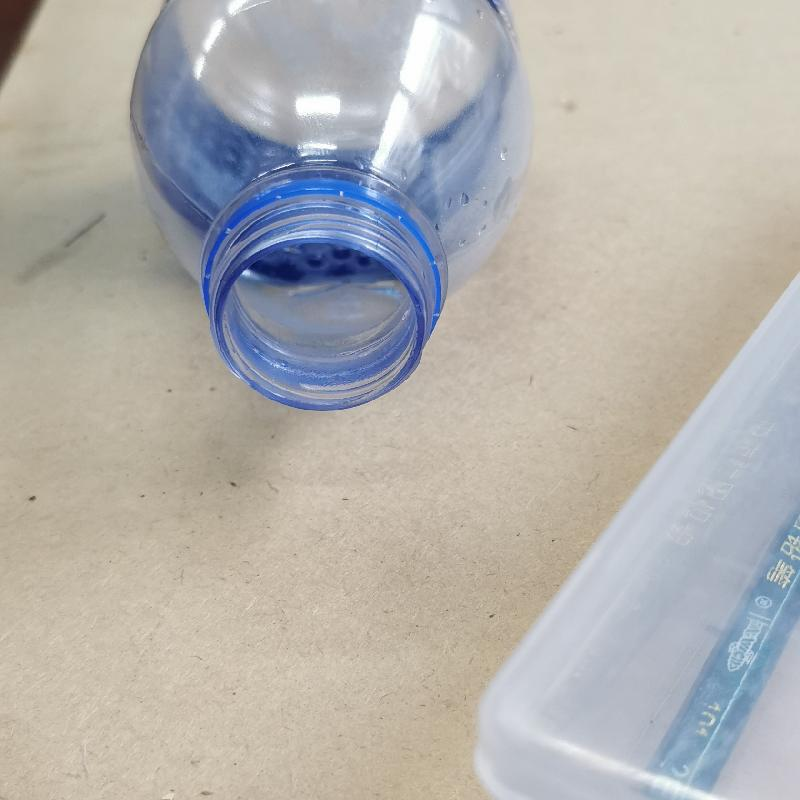bottles: (120, 0, 539, 416)
